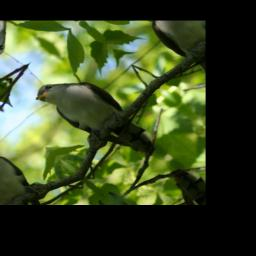Cuckoo: (31, 61, 167, 176)
